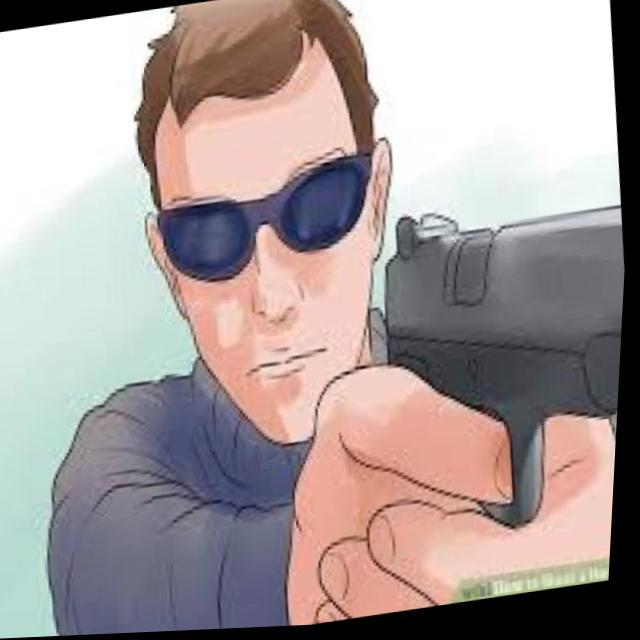weapon: (363, 184, 632, 548)
